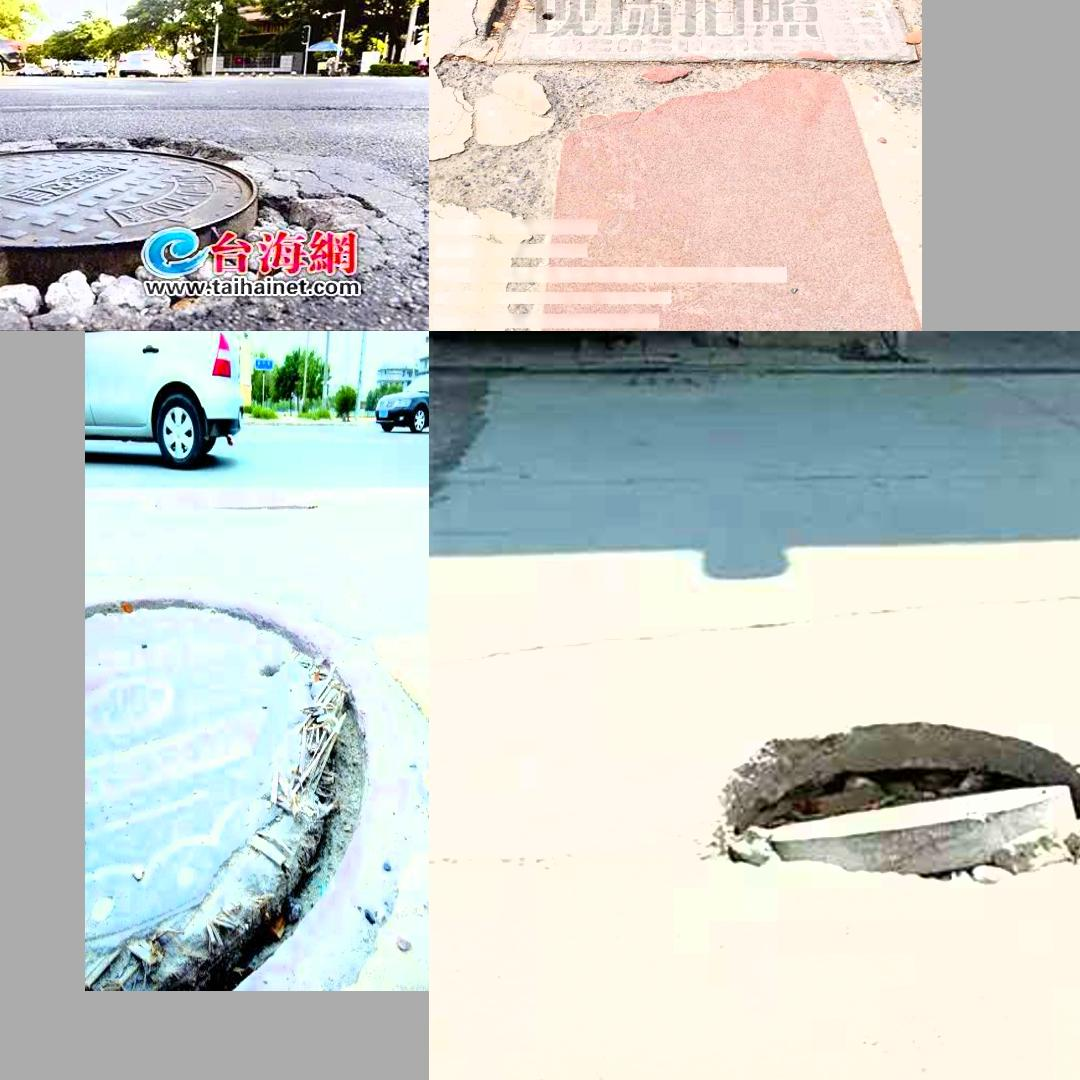circle: (90, 575, 409, 978), (672, 697, 1080, 932), (0, 135, 396, 311), (469, 0, 922, 70)
